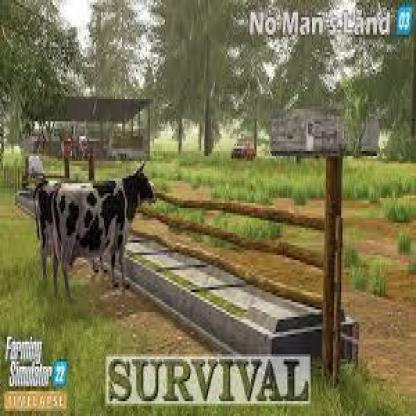cow: (49, 173, 156, 302)
